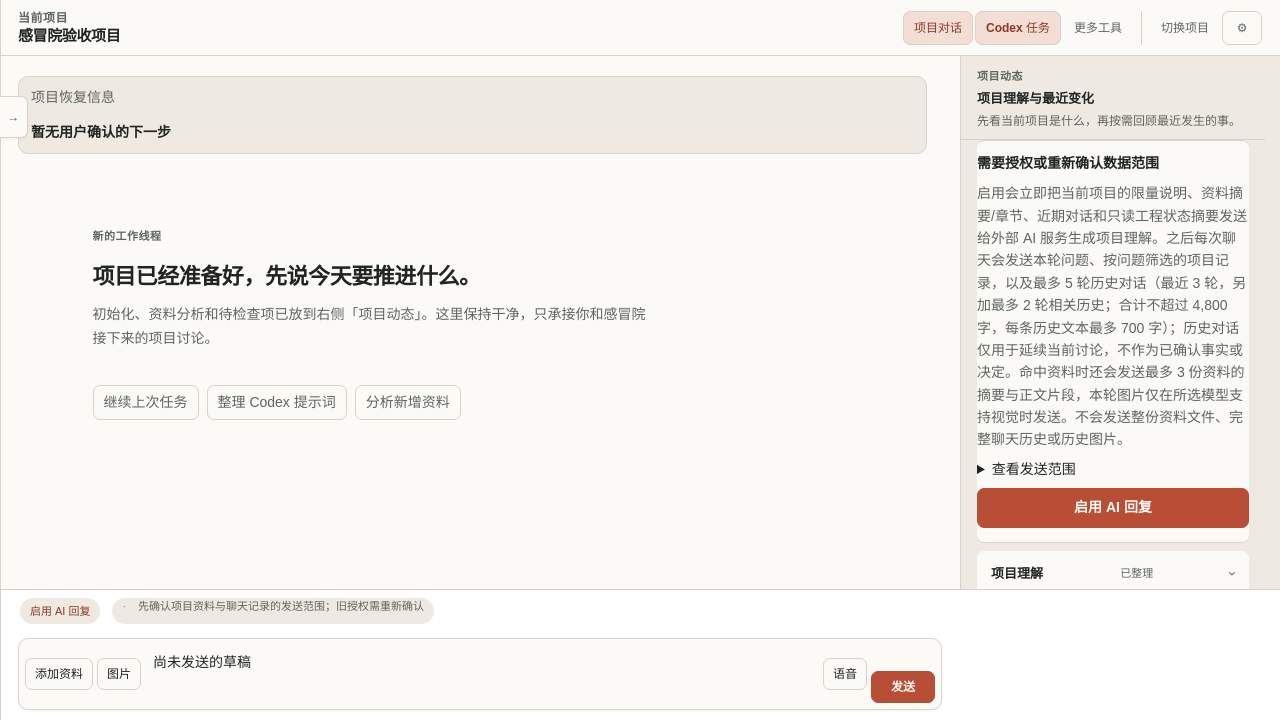
Test: project workspace persistence flow › records a confirmed project fact without routing it through AI chat
Check: the button "项目对话" is shown, box top-left (903, 10), bottom-right (973, 44)
Click the heading "更多工具". click: {"x": 1098, "y": 28}
box: top-left (1074, 20), bottom-right (1122, 34)
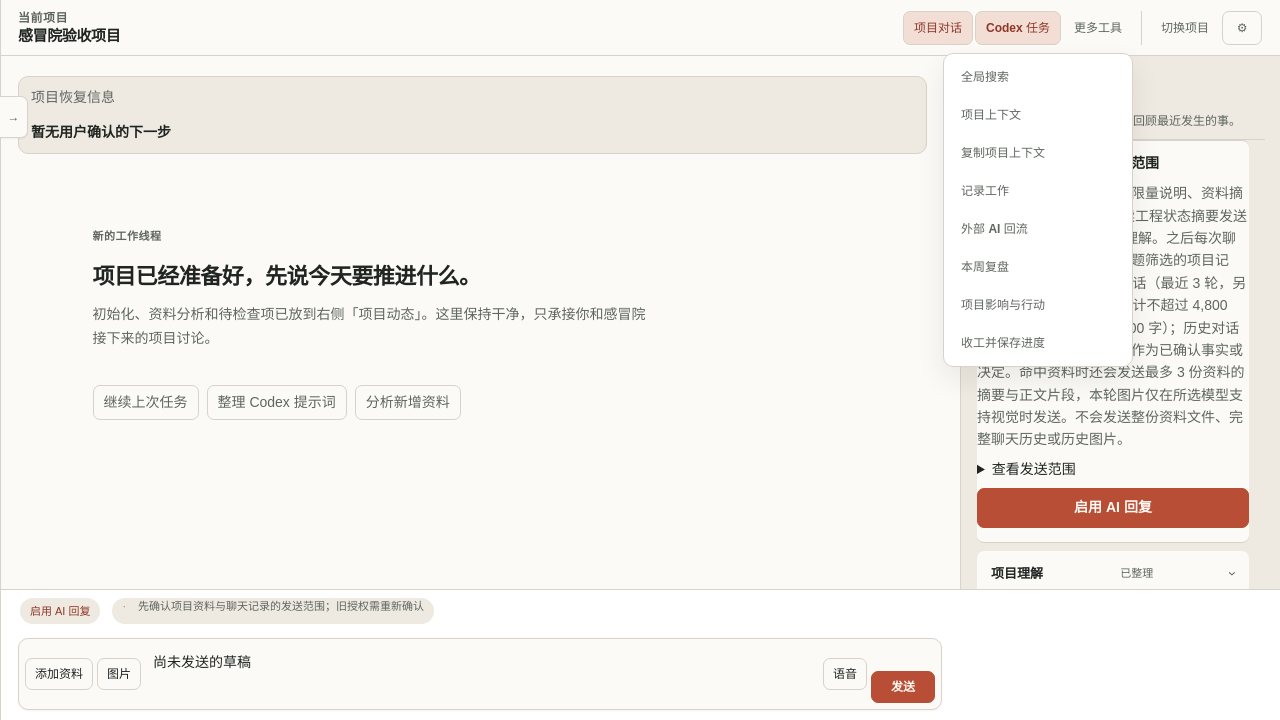
Click the button "记录工作". click: {"x": 1038, "y": 190}
box: top-left (950, 174), bottom-right (1126, 208)
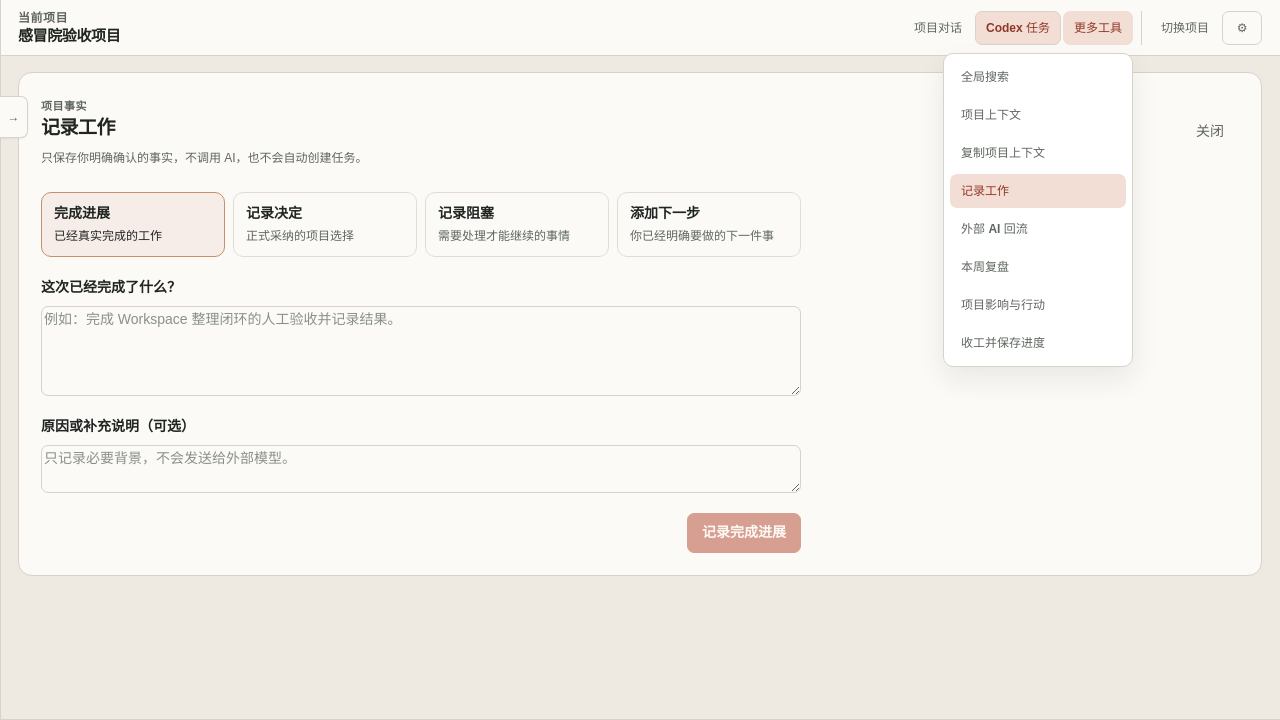
Type "完成真实项目事实回流验收" into the text box with placeholder "例如：完成 Workspace 整理闭环的人工验收并记录结果。". click: {"x": 421, "y": 350}
box: top-left (41, 306), bottom-right (801, 396)
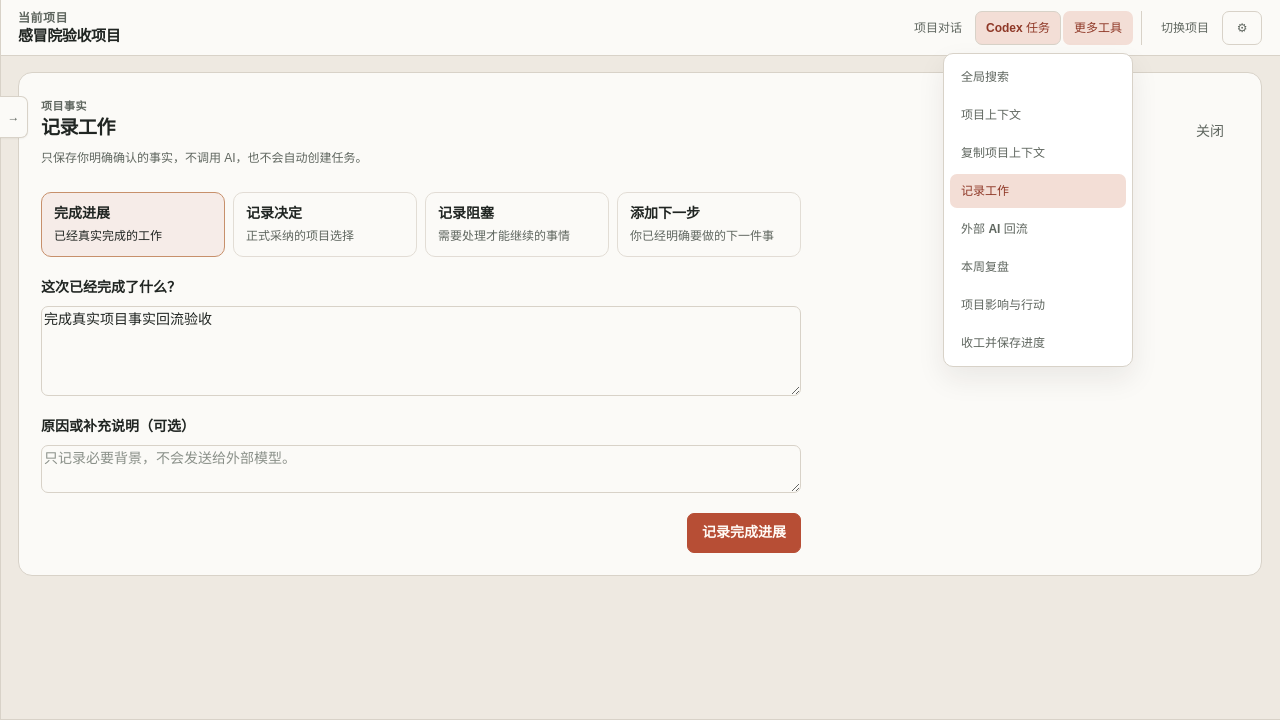
Click the button "记录完成进展". click: {"x": 744, "y": 532}
box: top-left (687, 512), bottom-right (801, 552)
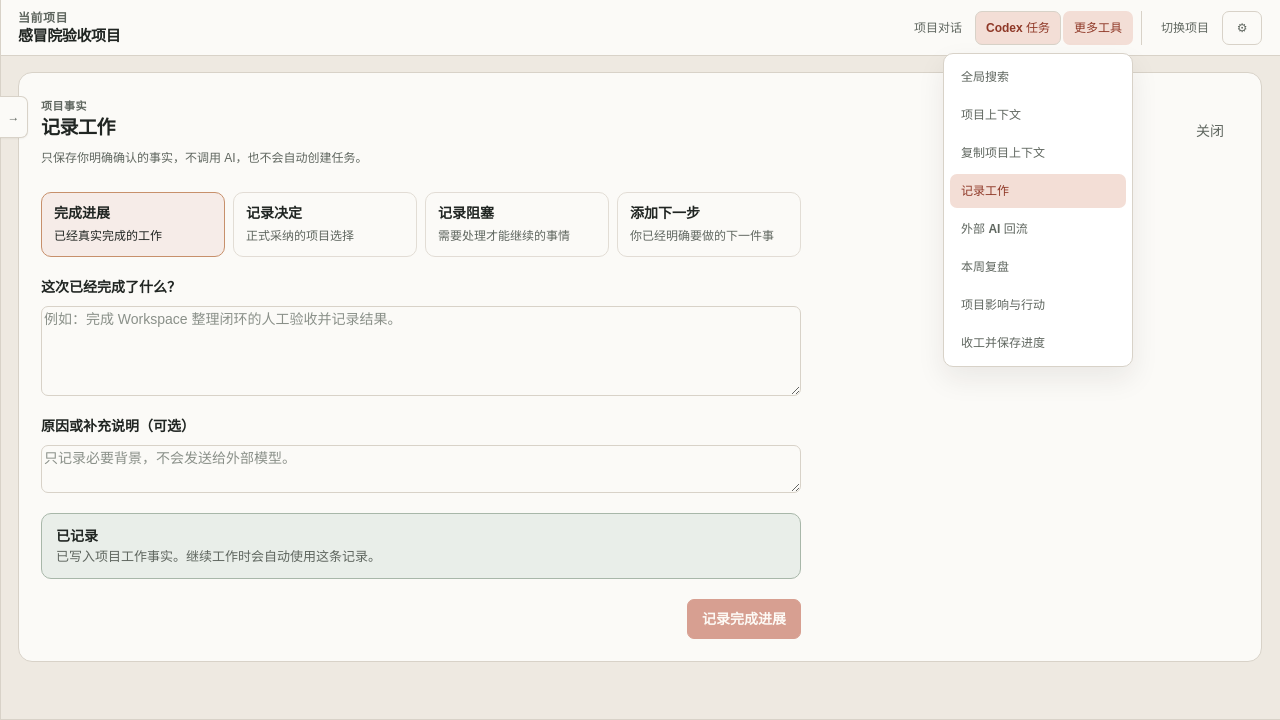
Check: the text box with placeholder "例如：完成 Workspace 整理闭环的人工验收并记录结果。" is empty, box top-left (41, 306), bottom-right (801, 396)
Check: the text "已写入项目工作事实。继续工作时会自动使用这条记录。" is shown, box top-left (56, 546), bottom-right (381, 566)
